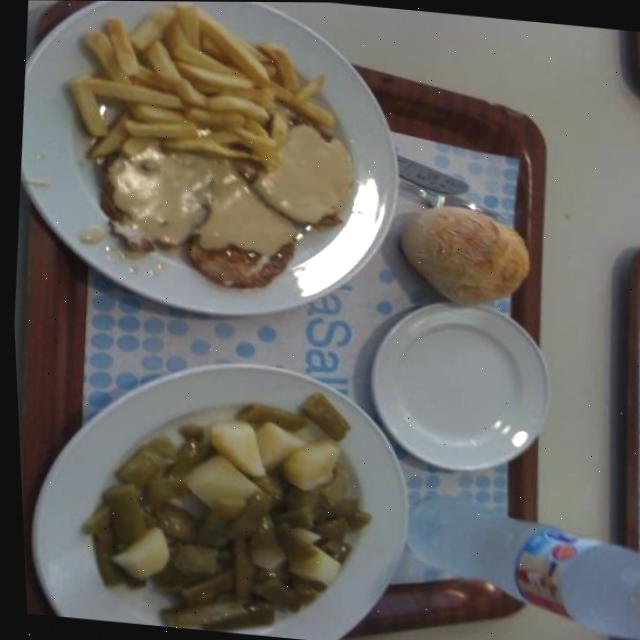炸货点心: (55, 0, 357, 185)
